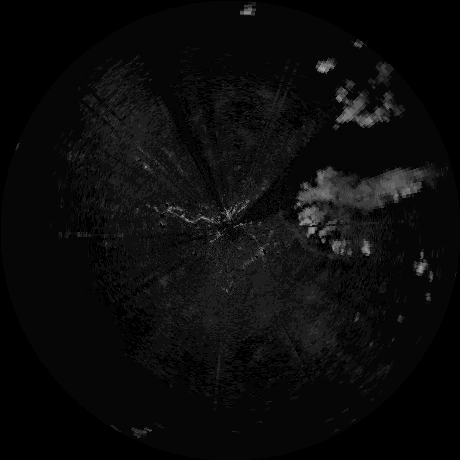frontgust: (280, 212, 336, 259)
